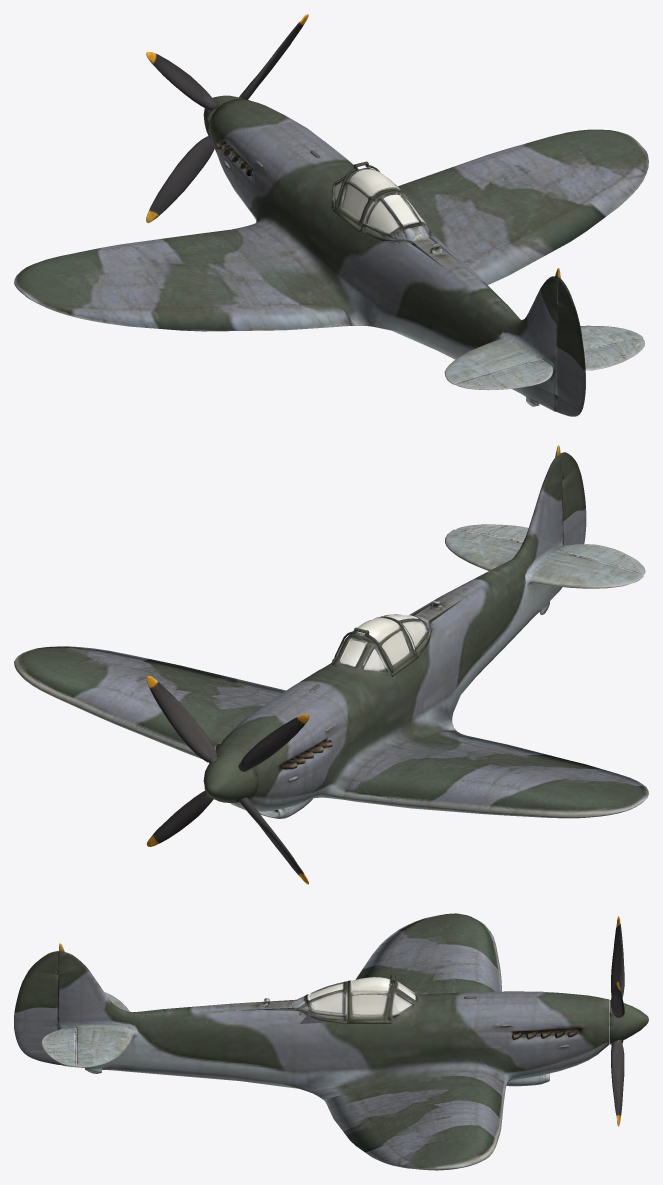
3 renders of one model, top to bottom at view 1: azimuth 30°, elevation 25°; view 2: azimuth 150°, elevation 25°; view 3: azimuth 270°, elevation 25°, orthographic. The views are drawn at different scales.
Visible parts, largest first — view 1: Airframe, Propeller; view 2: Airframe, Propeller; view 3: Airframe, Propeller.
Boxes of the visible parts, x1=… form: Airframe: x1=14, y1=98, x2=648, y2=416; Propeller: x1=146, y1=14, x2=308, y2=223; Airframe: x1=14, y1=445, x2=648, y2=818; Propeller: x1=146, y1=675, x2=309, y2=884; Airframe: x1=14, y1=913, x2=608, y2=1170; Propeller: x1=609, y1=916, x2=648, y2=1126.
Bounding box in the file's own units: 8.04 × 2.23 × 8.5.
Materials: 1 (1 with a texture image).
